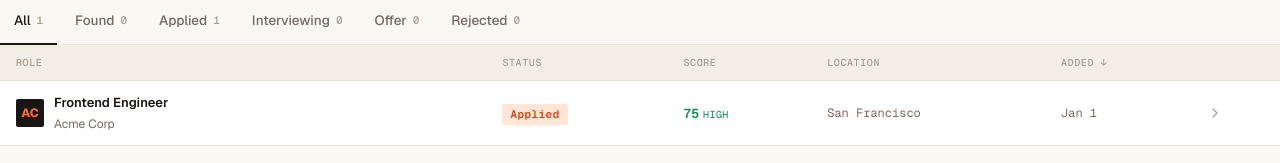
ApplicationsTable › shows sort indicator on Role column after clicking its header
Click the column heading "Role": (243, 63) [0, 45, 486, 81]
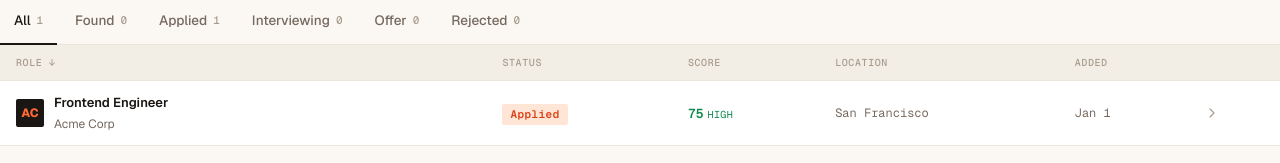
Expected: the column heading "Role ↓" is shown, [0, 45, 486, 81]
